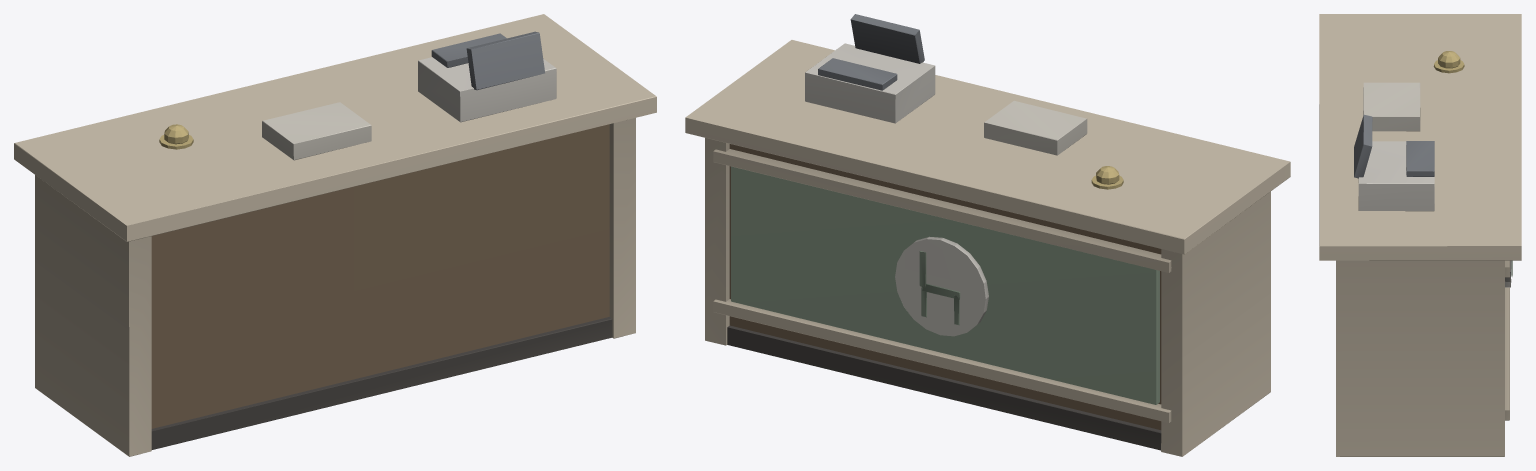
File: mall_counter__f3_low.glb
The picture shows the model from 3 angles, left to right: view 1: azimuth 30°, elevation 25°; view 2: azimuth 150°, elevation 25°; view 3: azimuth 270°, elevation 25°; orthographic projection. The views are drawn at different scales.
Visible parts, largest first — view 1: mall.counter__f3; view 2: mall.counter__f3; view 3: mall.counter__f3.
Boxes of the visible parts, <box> form: mall.counter__f3: <box>14,14,656,456</box>; mall.counter__f3: <box>685,14,1290,456</box>; mall.counter__f3: <box>1319,14,1521,456</box>.
Bounding box in the file's own units: 2.3 × 1.28 × 0.8484.
